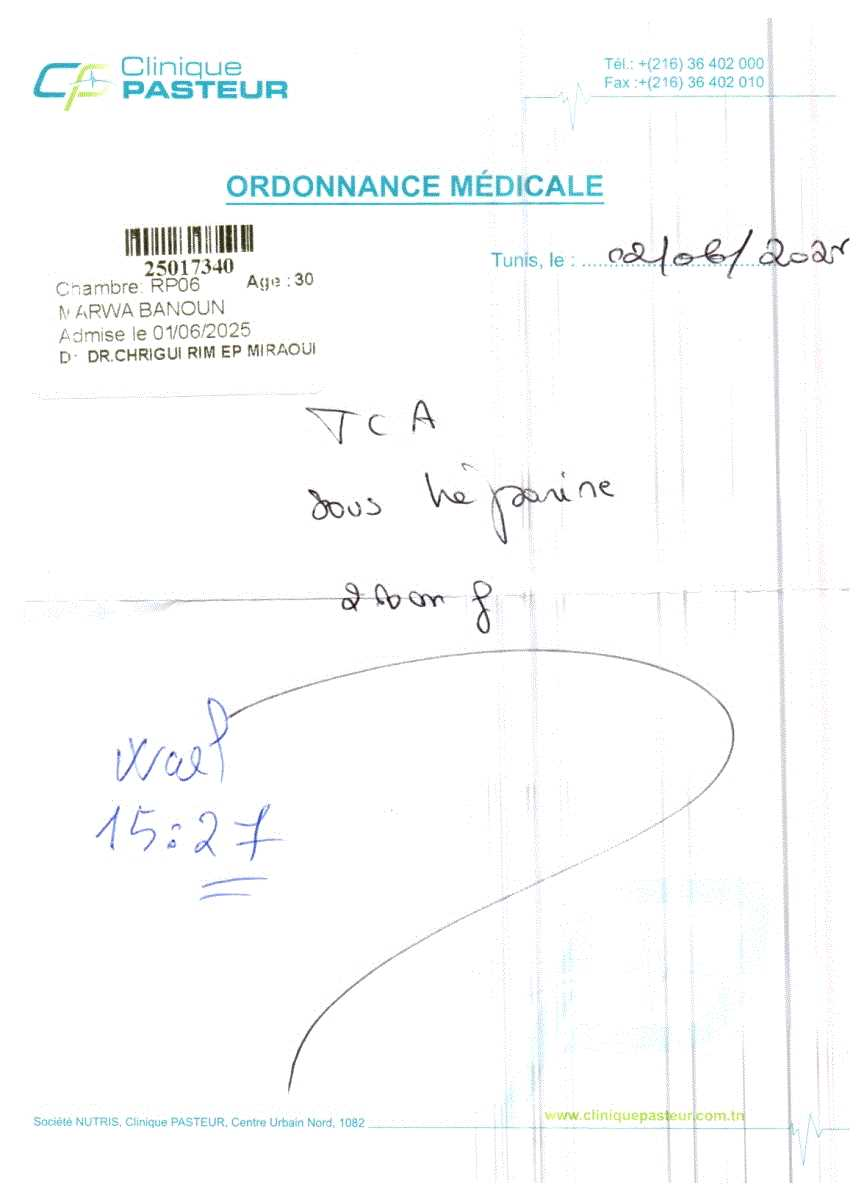zone_analyses: (294, 402, 625, 636), (94, 699, 336, 899)
zone_date: (602, 222, 858, 272), (154, 318, 252, 340)
zone_patient: (58, 295, 226, 317)
zone_prescripteur: (28, 1099, 796, 1141), (592, 32, 778, 116), (61, 346, 326, 362)
